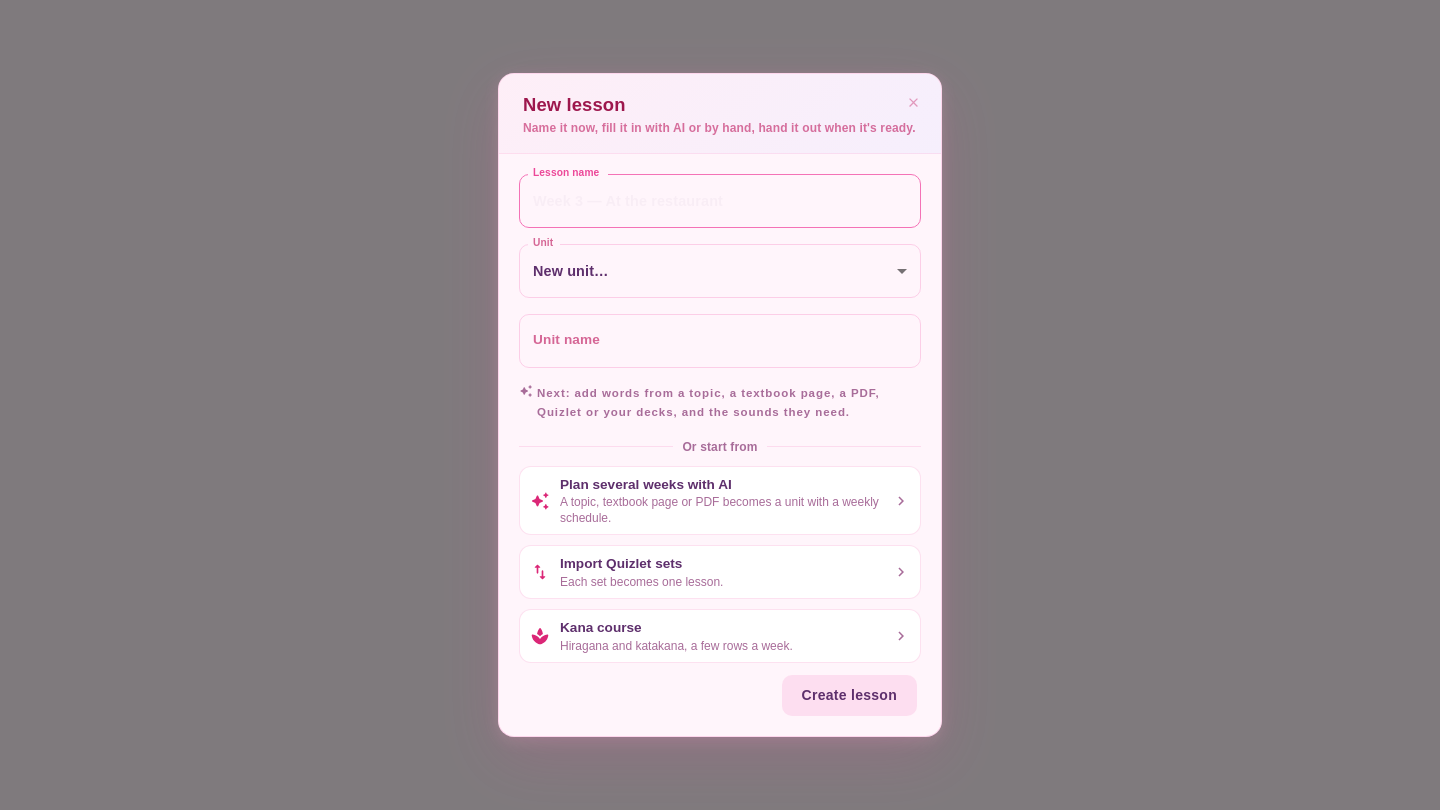
it: NewLessonDialog › shows the error and does not navigate on failure
In the field with placeholder "Week 3 — At the restaurant": (720, 201) [519, 174, 921, 228], type "Week 1"
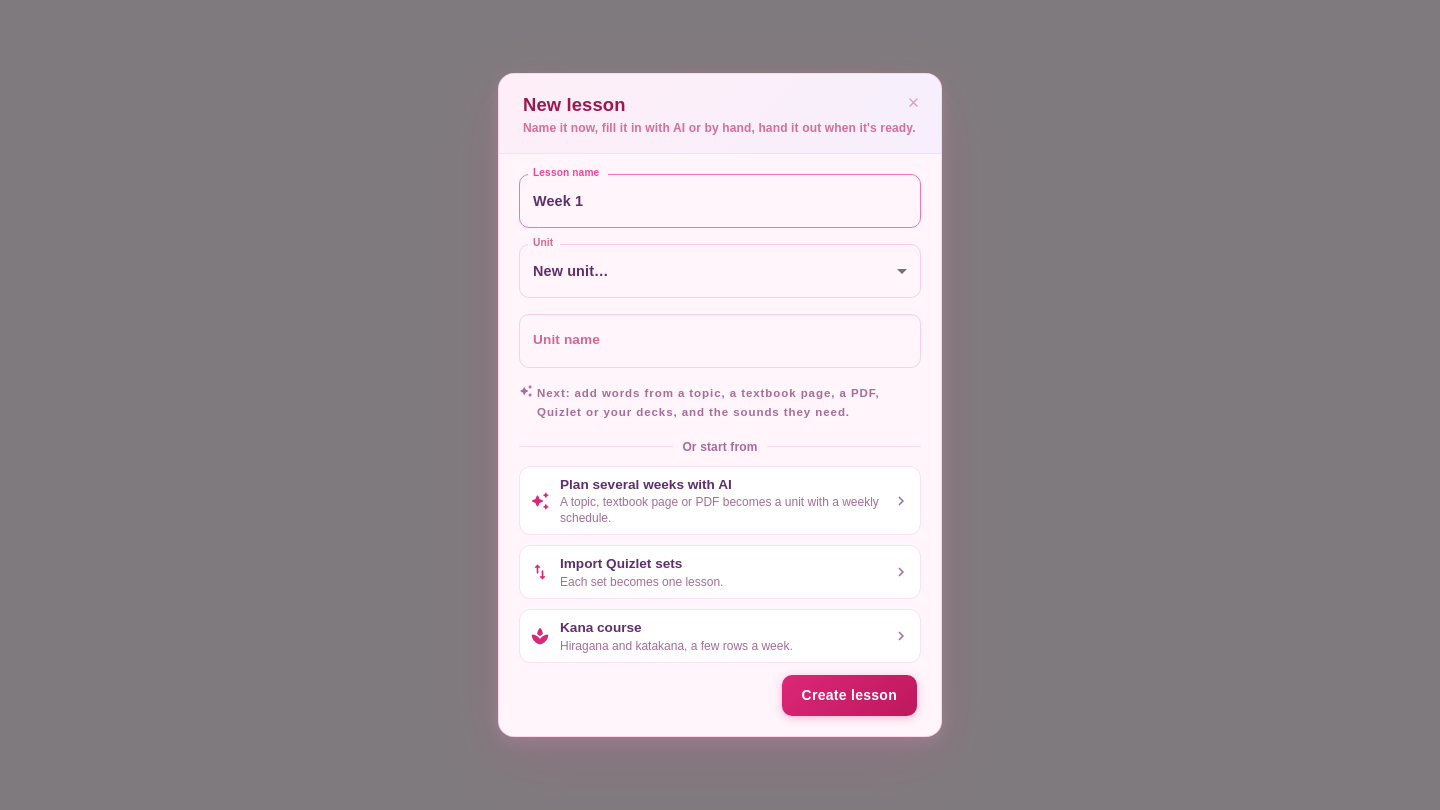
Click the button "Create lesson": (849, 696) [782, 675, 917, 716]
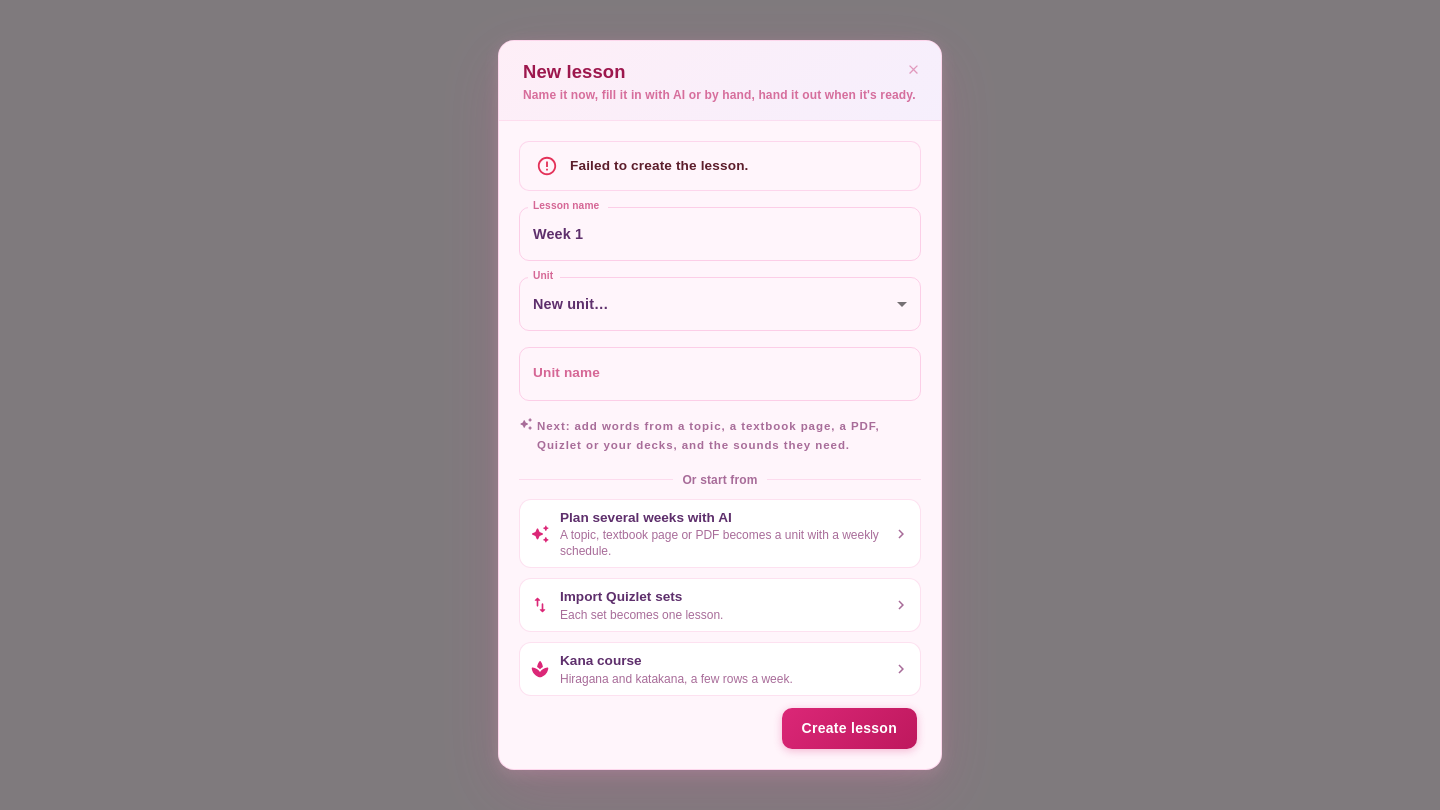
Expected: the text "Failed to create the lesson." is shown, [570, 158, 748, 174]
